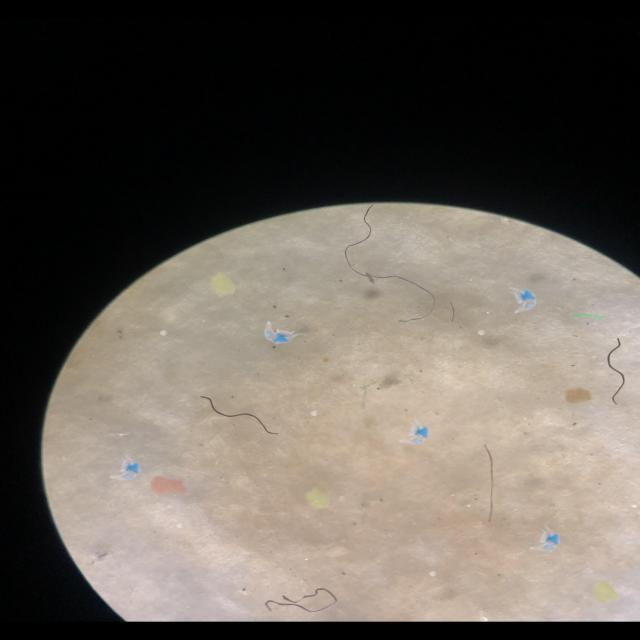fiber: (336, 206, 443, 324), (184, 388, 286, 441), (259, 579, 349, 619), (474, 431, 507, 529), (600, 326, 631, 408)
film: (252, 312, 312, 348), (391, 416, 449, 452), (526, 520, 573, 557), (103, 449, 147, 485), (514, 288, 556, 320)
fragment: (285, 475, 349, 515), (200, 264, 244, 305), (142, 470, 198, 498), (559, 382, 600, 410)
pallet: (577, 578, 629, 608), (423, 567, 445, 585), (472, 326, 496, 338), (306, 405, 322, 421), (157, 326, 173, 340)
